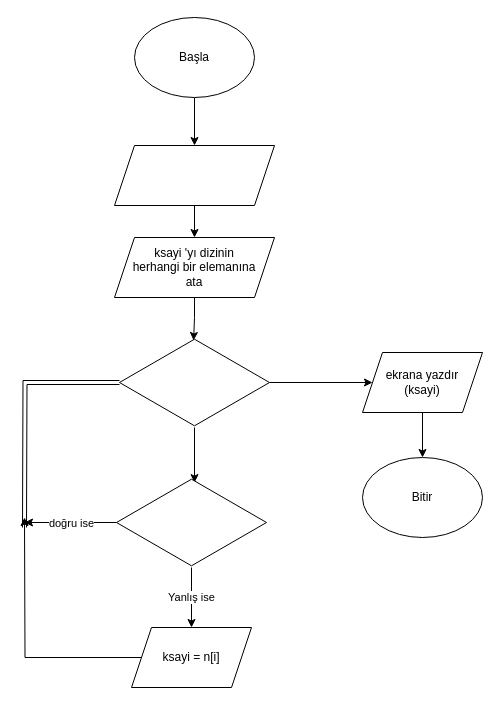
Some shapes in this 500 by 705 pixel diagram are drawn without their labels. The shapes that lost their labels are listed below. From the top down, each one's centre as x and y in pixels, then its label:
At (194,175): "Tanımla (n dizi, i, ksayi)".
At (194,382): "i < len(n)".
At (191,522): "ksayi < n[i]".
